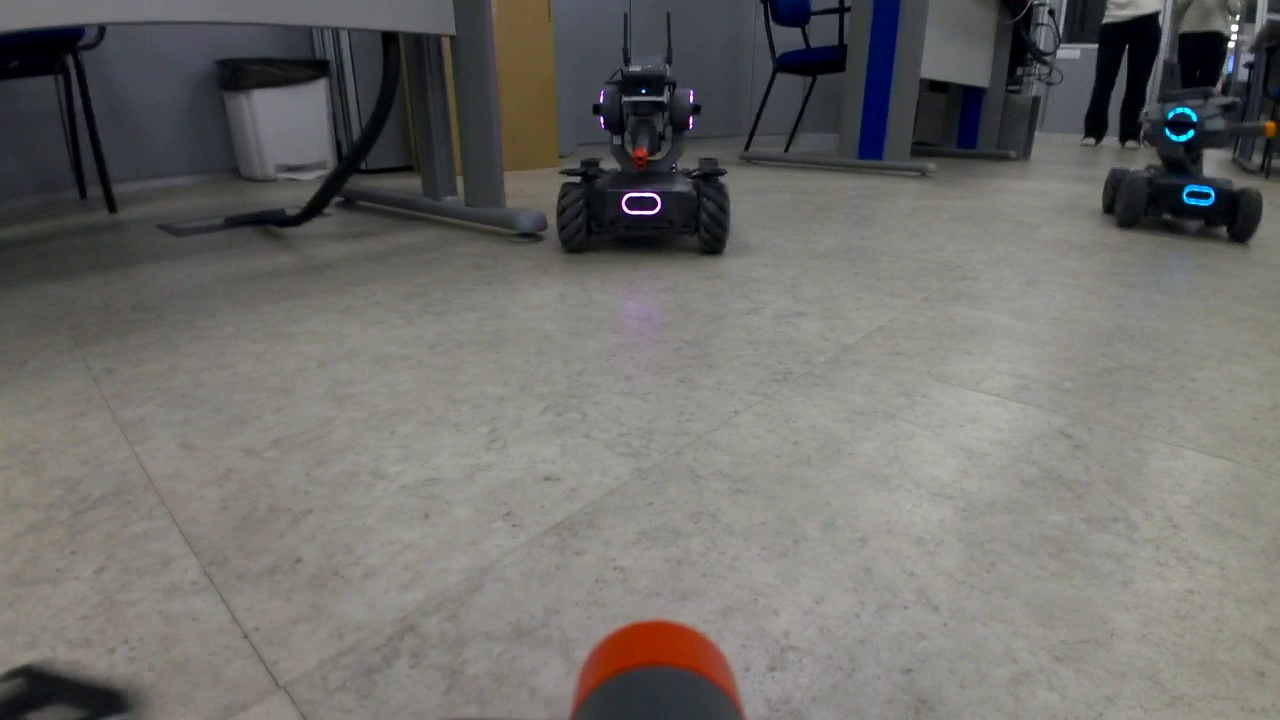robot: (556, 56, 734, 258), (1098, 89, 1278, 246)
